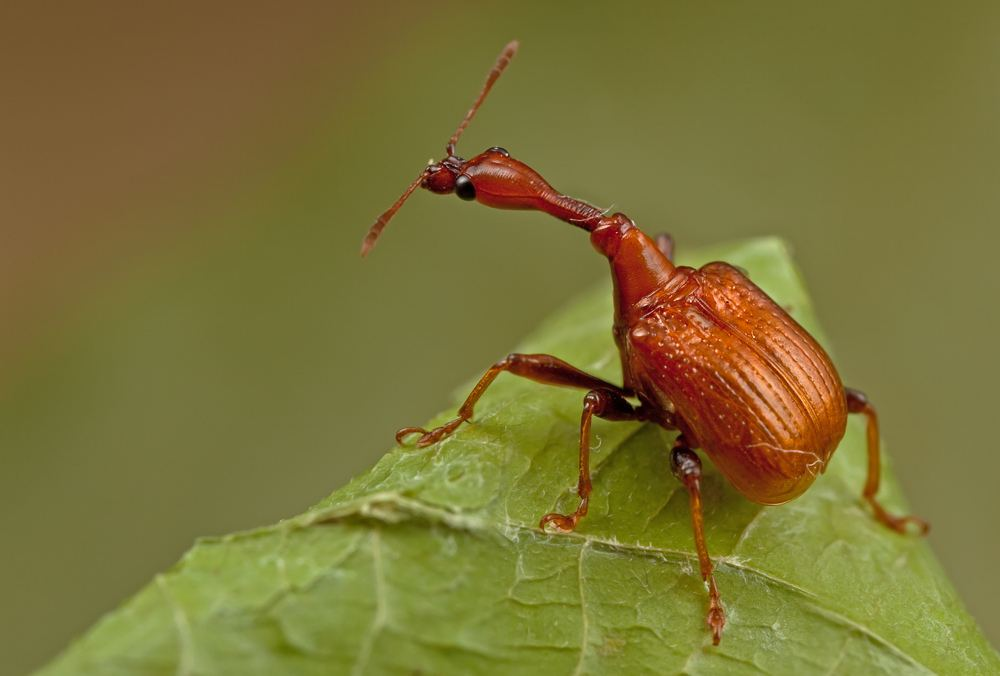dolgonosik: (345, 33, 939, 644)
